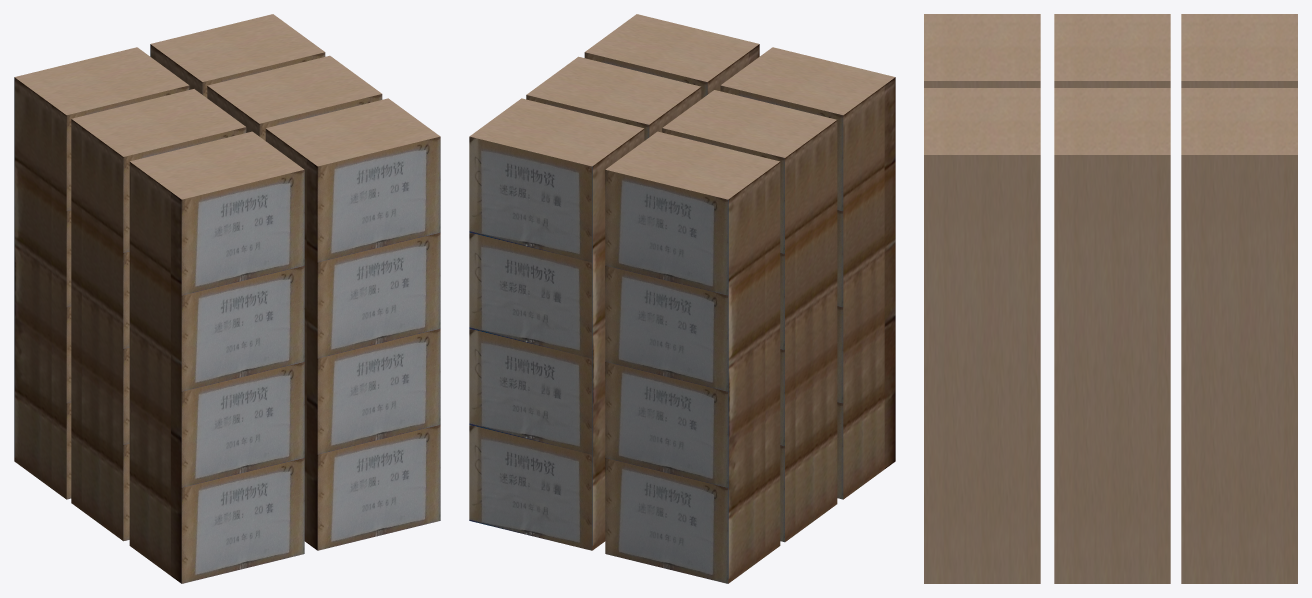
The model's file is micaifu.FBX.
3 renders of one model, left to right at view 1: azimuth 30°, elevation 25°; view 2: azimuth 150°, elevation 25°; view 3: azimuth 270°, elevation 25°, orthographic. The views are drawn at different scales.
Visible parts, largest first — view 1: Box3836; view 2: Box3836; view 3: Box3836.
Boxes of the visible parts, left/top/right/bottom form: Box3836: left=14, top=14, right=440, bottom=583; Box3836: left=469, top=14, right=895, bottom=583; Box3836: left=924, top=14, right=1297, bottom=583.
Bounding box in the file's own units: 0.8265 × 0.926 × 1.17.
